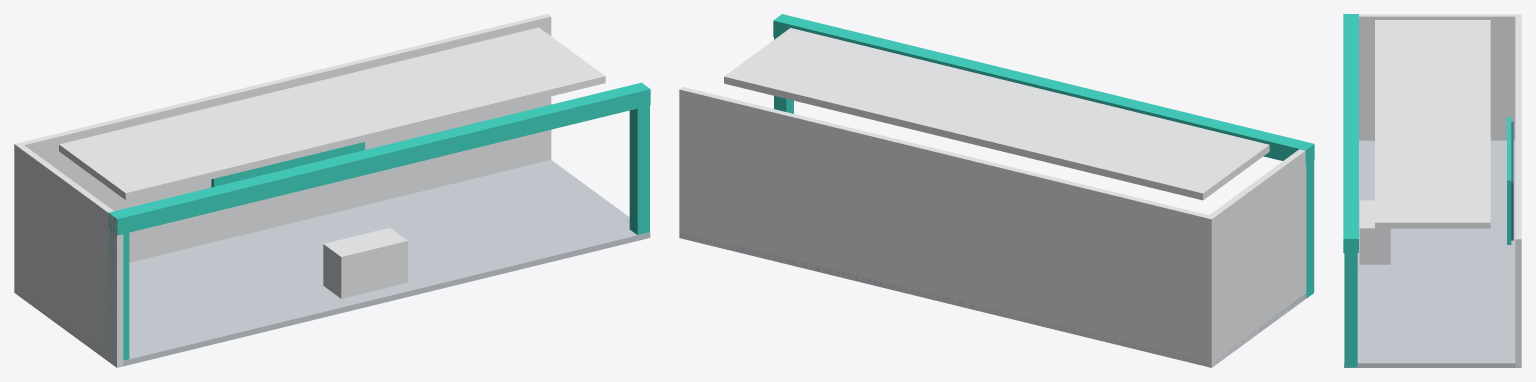
3 renders of one model, left to right at view 1: azimuth 30°, elevation 25°; view 2: azimuth 150°, elevation 25°; view 3: azimuth 270°, elevation 25°, orthographic. The views are drawn at different scales.
Parts seen in each view (by area): view 1: Exhibition Booth Concept; view 2: Exhibition Booth Concept; view 3: Exhibition Booth Concept.
Part boxes in pixels (x1=…): Exhibition Booth Concept: x1=14, y1=14, x2=650, y2=367; Exhibition Booth Concept: x1=679, y1=14, x2=1314, y2=367; Exhibition Booth Concept: x1=1343, y1=14, x2=1521, y2=367.
Size of the model in its own units: 12 by 3.34 by 4.02.
